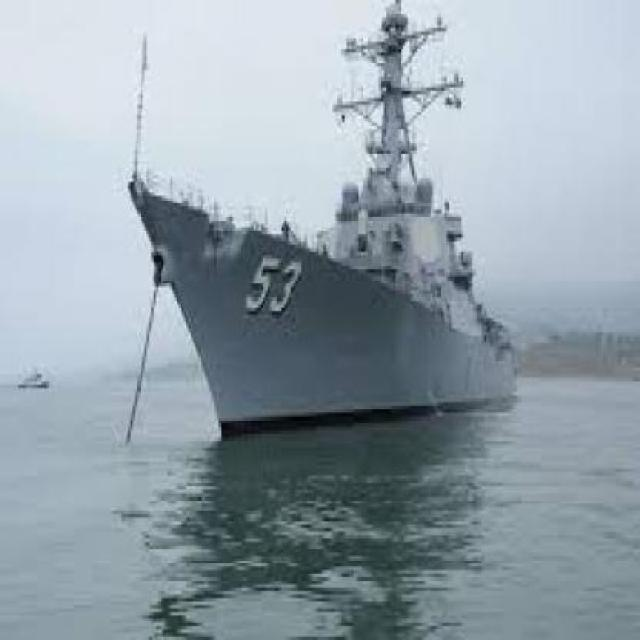warship2: (111, 4, 560, 509)
